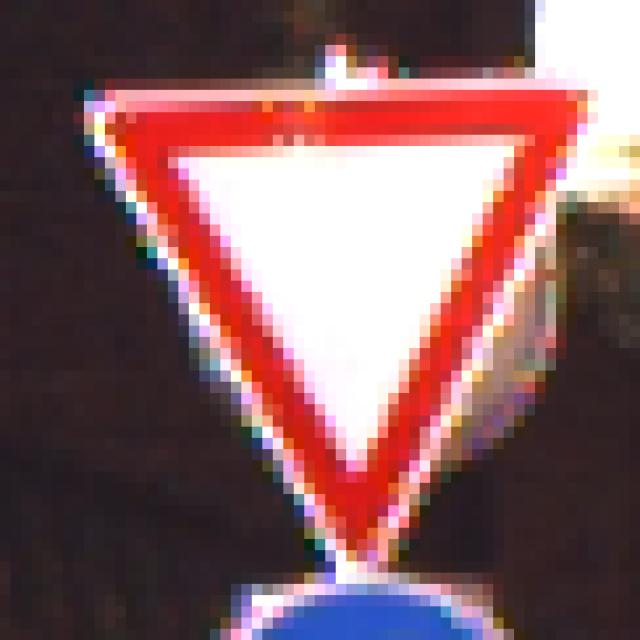Give Way: (54, 57, 578, 585)
